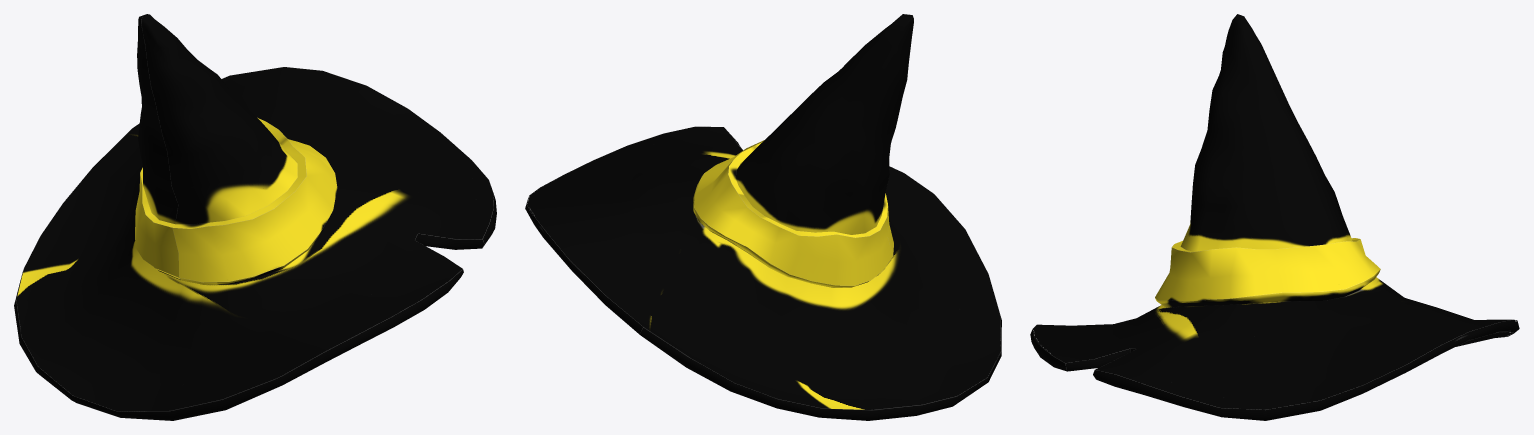
Rendered from hat.glb.
3 renders of one model, left to right at view 1: azimuth 30°, elevation 25°; view 2: azimuth 150°, elevation 25°; view 3: azimuth 270°, elevation 25°, orthographic. The views are drawn at different scales.
Visible parts, largest first — view 1: hat_LP; view 2: hat_LP; view 3: hat_LP.
Boxes of the visible parts, left/top/right/bottom form: hat_LP: left=14, top=14, right=496, bottom=420; hat_LP: left=525, top=14, right=1001, bottom=420; hat_LP: left=1030, top=14, right=1519, bottom=420.
Size of the model in its own units: 87.94 by 73.08 by 90.2.
Materials: 1 (1 with a texture image).
